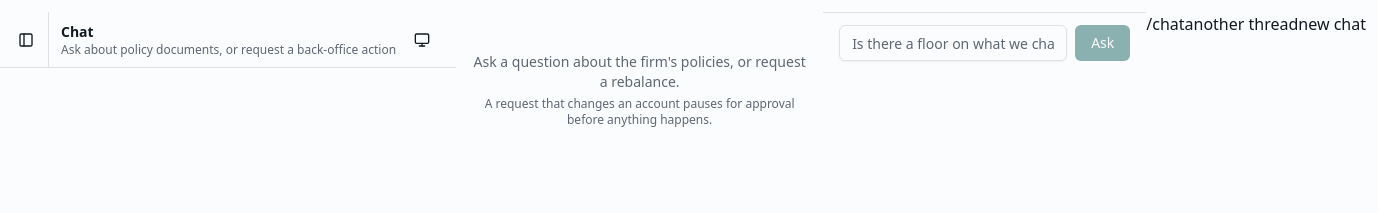
ChatPage › the thread id in the URL › puts the new thread's id in the address, so a reload can find it again
Expected: the text with test id "address" reads "/chat", [1146,13,1185,35]
In the field named "Message": {"x": 953, "y": 43} [839,25,1067,61], type "what is the fee floor?"
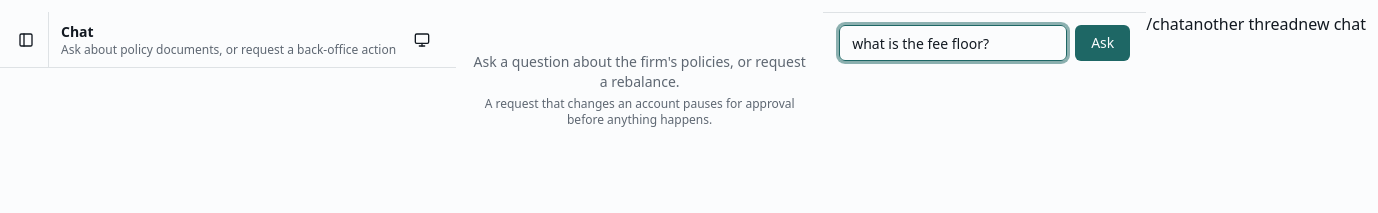
Click the button "Ask": {"x": 1103, "y": 43} [1075,25,1130,61]
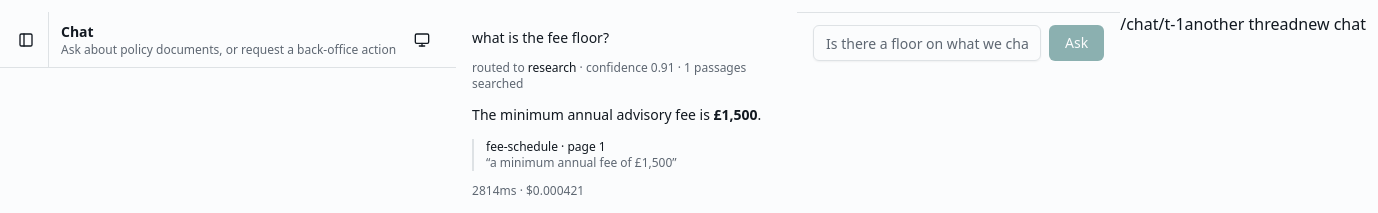
Now the text with test id "address" reads "/chat/t-1", box [1120,13,1184,35]
